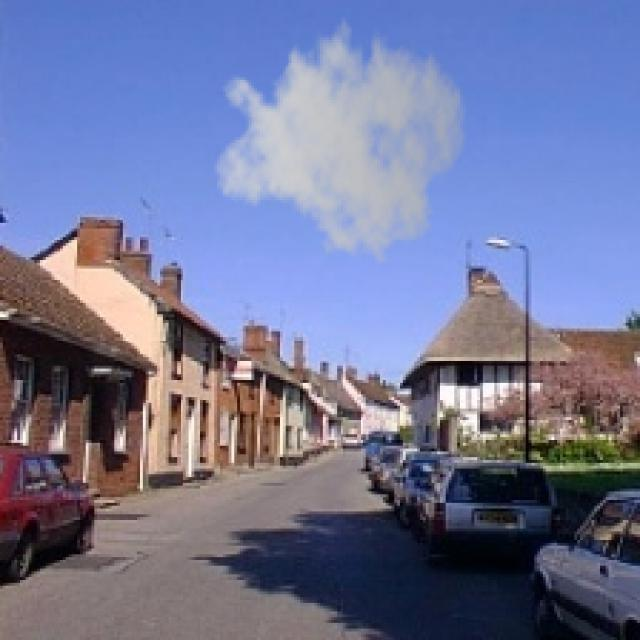Smoke: (214, 3, 469, 266)
